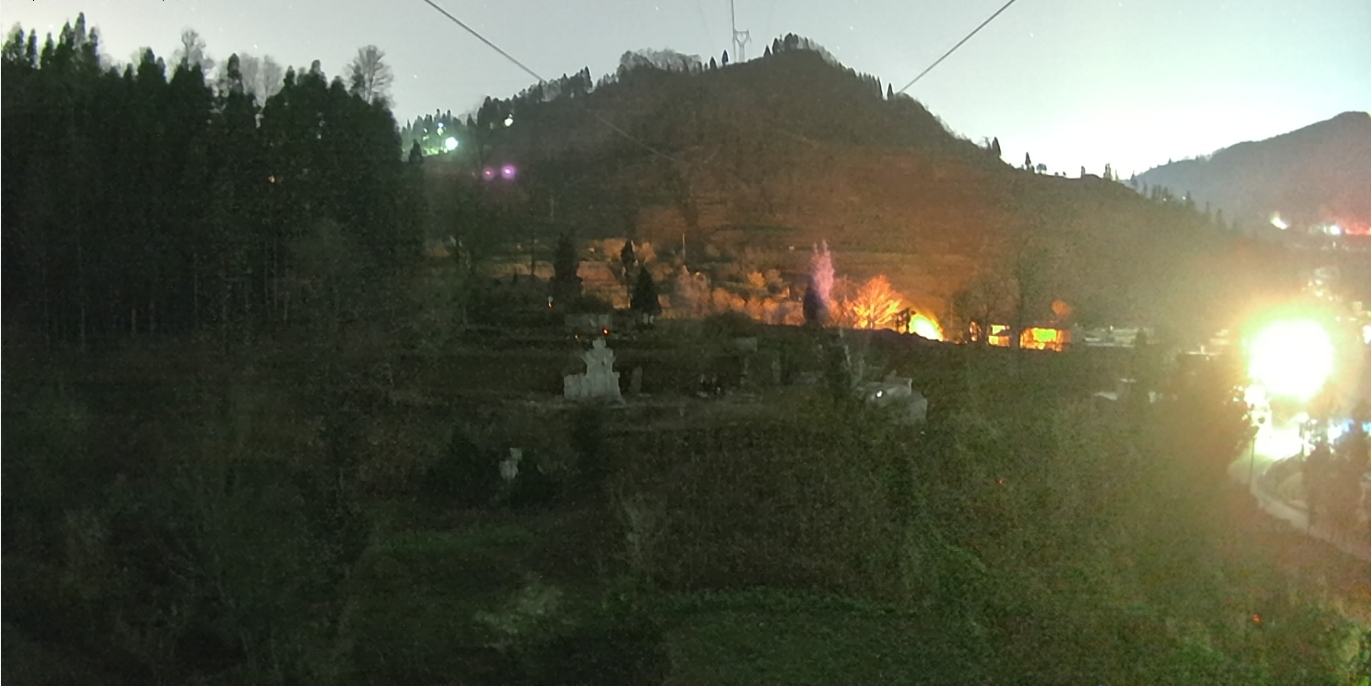山火: (1229, 300, 1362, 401), (904, 313, 946, 340)
